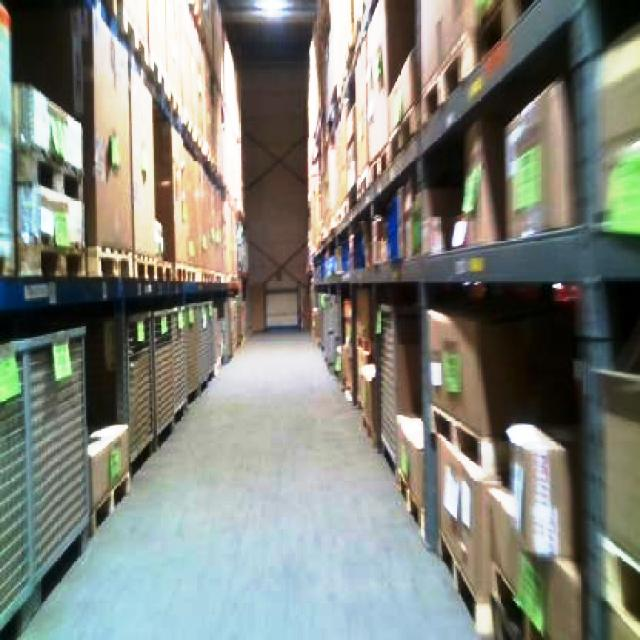ground: (0, 325, 508, 638)
pallet: (303, 0, 638, 638), (0, 323, 92, 638)
